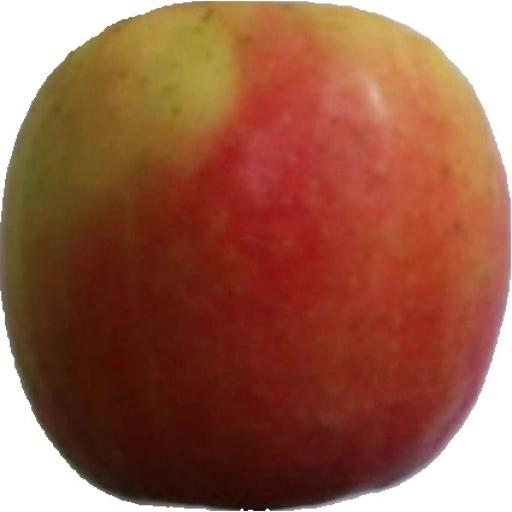apple-ripe: (0, 8, 512, 512)
